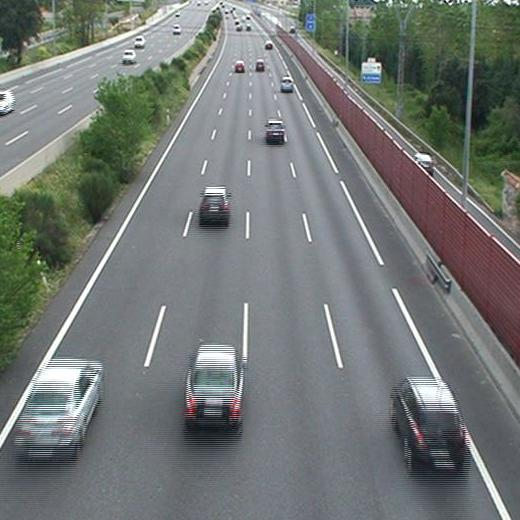car: (16, 360, 101, 449), (392, 379, 465, 460), (185, 345, 240, 425), (201, 188, 229, 220), (266, 120, 283, 139), (280, 77, 293, 90), (234, 61, 245, 72), (255, 61, 265, 69), (265, 40, 274, 48)
